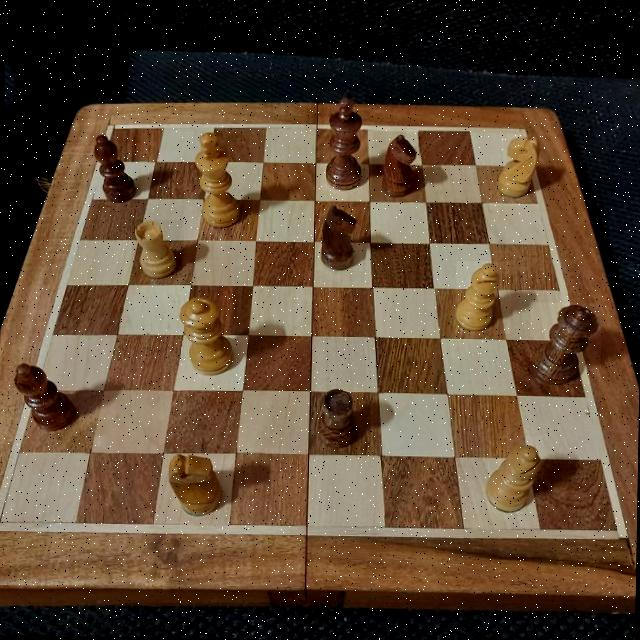black-camel: (6, 354, 75, 444), (86, 132, 141, 202)
black-elephant: (313, 386, 361, 451)
black-horse: (372, 131, 421, 202), (316, 206, 363, 271)
black-king: (322, 91, 364, 191)
black-queen: (529, 302, 601, 384)
white-camel: (487, 436, 543, 520), (455, 260, 511, 334)
white-elephant: (130, 218, 183, 278)
white-horse: (159, 444, 228, 520), (489, 133, 540, 206)
white-king: (192, 130, 249, 230)
white-queen: (173, 292, 240, 378)
